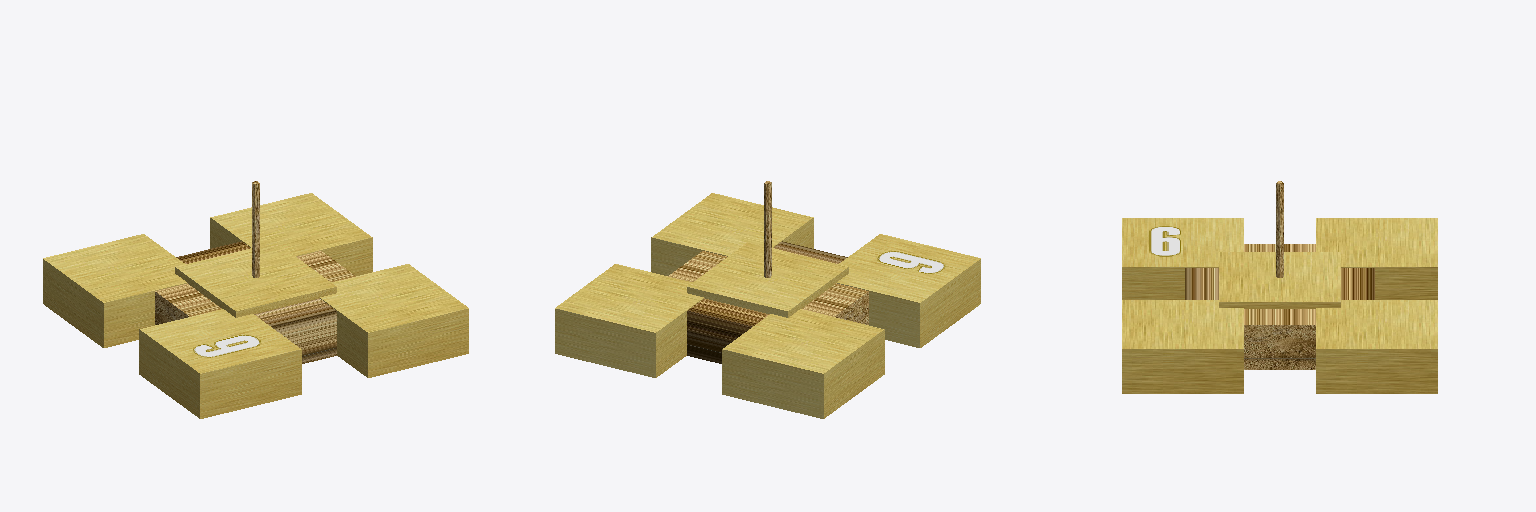
3 views of the same model, side by side, from view 1: azimuth 30°, elevation 25°; view 2: azimuth 150°, elevation 25°; view 3: azimuth 270°, elevation 25° (orthographic).
Parts seen in each view (by area): view 1: group pasted__pCube3, group pasted__pCube2, group pasted__pCube4, pasted__pCube1 group, group pasted__pCube6, group pasted__pCube5, pCylinder1; view 2: group pasted__pCube4, pasted__pCube1 group, group pasted__pCube3, group pasted__pCube2, group pasted__pCube6, group pasted__pCube5, pCylinder1; view 3: pasted__pCube1 group, group pasted__pCube2, group pasted__pCube3, group pasted__pCube4, group pasted__pCube5, group pasted__pCube6, pCylinder1.
Boxes of the visible parts, x1,y1,x2,y2 form: group pasted__pCube3: [139, 309, 301, 418]; group pasted__pCube2: [320, 264, 468, 377]; group pasted__pCube4: [43, 234, 186, 347]; pasted__pCube1 group: [210, 193, 372, 275]; group pasted__pCube6: [175, 242, 336, 317]; group pasted__pCube5: [155, 241, 355, 363]; pCylinder1: [252, 181, 259, 277]; group pasted__pCube4: [722, 309, 884, 418]; pasted__pCube1 group: [555, 264, 703, 377]; group pasted__pCube3: [837, 234, 980, 347]; group pasted__pCube2: [651, 193, 813, 275]; group pasted__pCube6: [687, 242, 848, 317]; group pasted__pCube5: [668, 241, 868, 363]; pCylinder1: [764, 181, 771, 277]; pasted__pCube1 group: [1316, 300, 1437, 393]; group pasted__pCube2: [1122, 300, 1243, 393]; group pasted__pCube3: [1122, 218, 1243, 299]; group pasted__pCube4: [1316, 218, 1437, 299]; group pasted__pCube5: [1185, 244, 1374, 369]; group pasted__pCube6: [1219, 252, 1340, 308]; pCylinder1: [1276, 181, 1283, 277].
Size of the model in its own units: 12.83 by 6.67 by 13.04.
Materials: 4 (3 with a texture image).